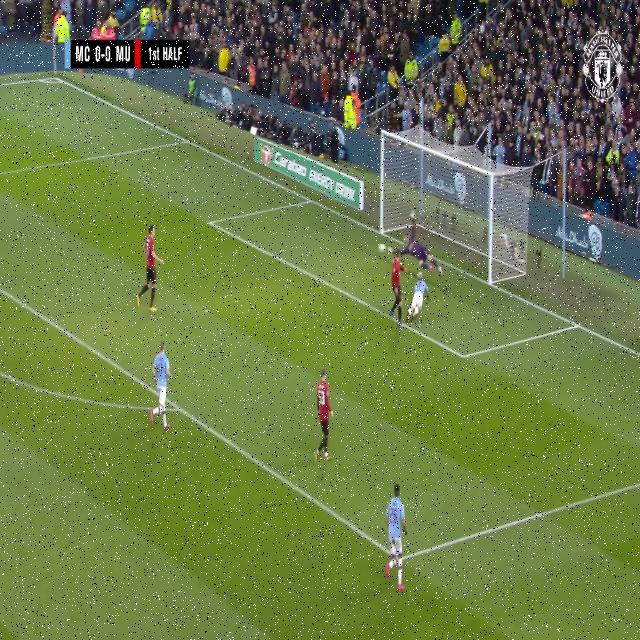Ball: (378, 238, 388, 258)
GoalKeeper: (397, 228, 445, 281)
TEAM 1: (137, 225, 163, 315), (314, 369, 332, 461), (391, 254, 406, 324)
TEAM 2: (384, 486, 407, 591), (152, 342, 173, 432), (408, 272, 431, 321)
